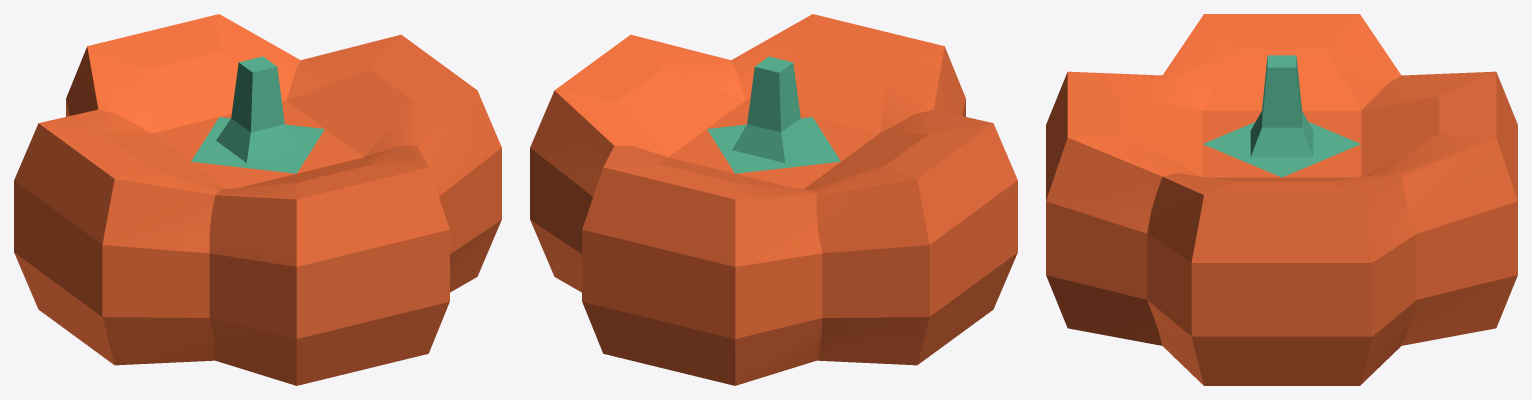
Rendered from pumpkin.obj.
The picture shows the model from 3 angles, left to right: view 1: azimuth 30°, elevation 25°; view 2: azimuth 150°, elevation 25°; view 3: azimuth 270°, elevation 25°; orthographic projection. The views are drawn at different scales.
Parts seen in each view (by area): view 1: pumpkin; view 2: pumpkin; view 3: pumpkin.
Boxes of the visible parts, x1,y1,x2,y2 form: pumpkin: (14, 14, 501, 385); pumpkin: (530, 14, 1017, 385); pumpkin: (1046, 14, 1517, 385).
Size of the model in its own units: 0.4189 by 0.2291 by 0.4189.
